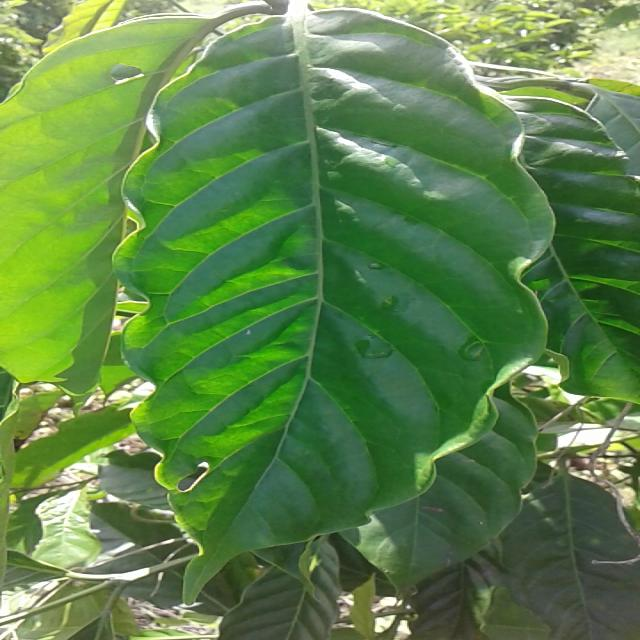Sanas: (113, 0, 556, 604)
